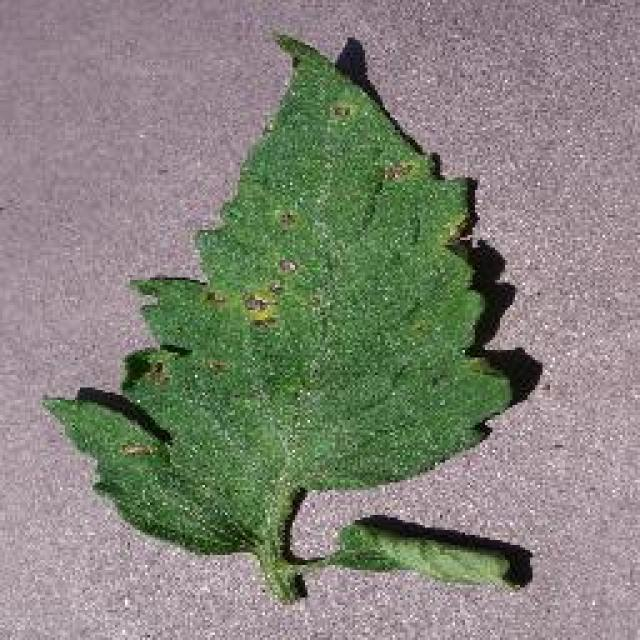Tomato___Septoria_leaf_spot: (45, 32, 515, 602)
